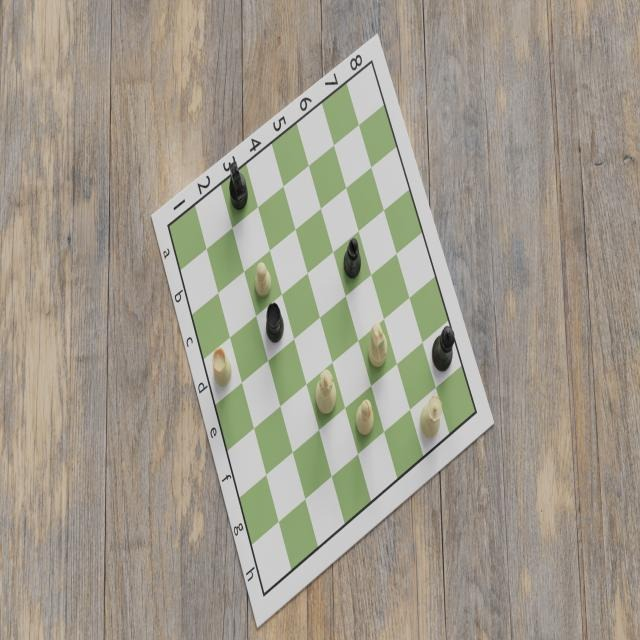black-bishop: (342, 236, 361, 280)
black-king: (432, 325, 455, 375)
black-knight: (229, 159, 251, 212)
black-rook: (265, 302, 287, 346)
white-bishop: (354, 398, 375, 438)
white-king: (314, 368, 337, 418)
white-knight: (366, 323, 389, 371)
white-pawn: (252, 260, 271, 301)
white-queen: (420, 393, 444, 442)
white-rook: (210, 348, 233, 392)
